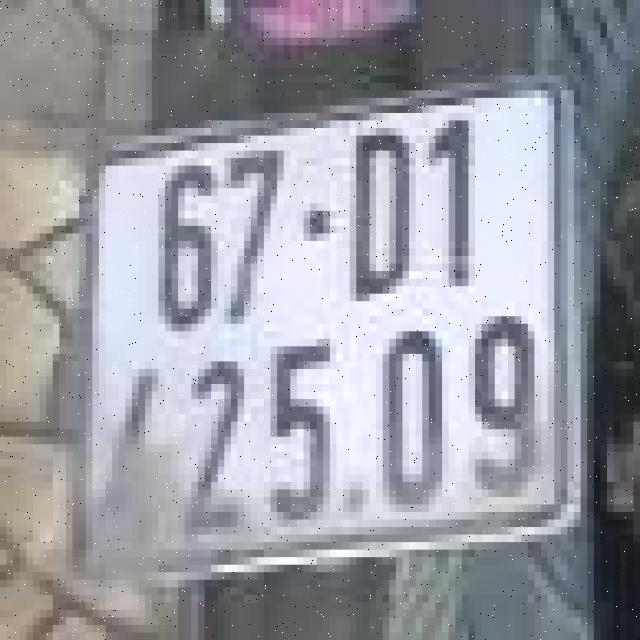0: (376, 328, 449, 516)
1: (426, 113, 485, 294)
2: (181, 354, 254, 542)
4: (96, 366, 168, 554)
5: (271, 335, 343, 523)
6: (158, 158, 218, 331)
7: (224, 147, 290, 327)
9: (465, 308, 544, 504)
D: (350, 128, 416, 309)
